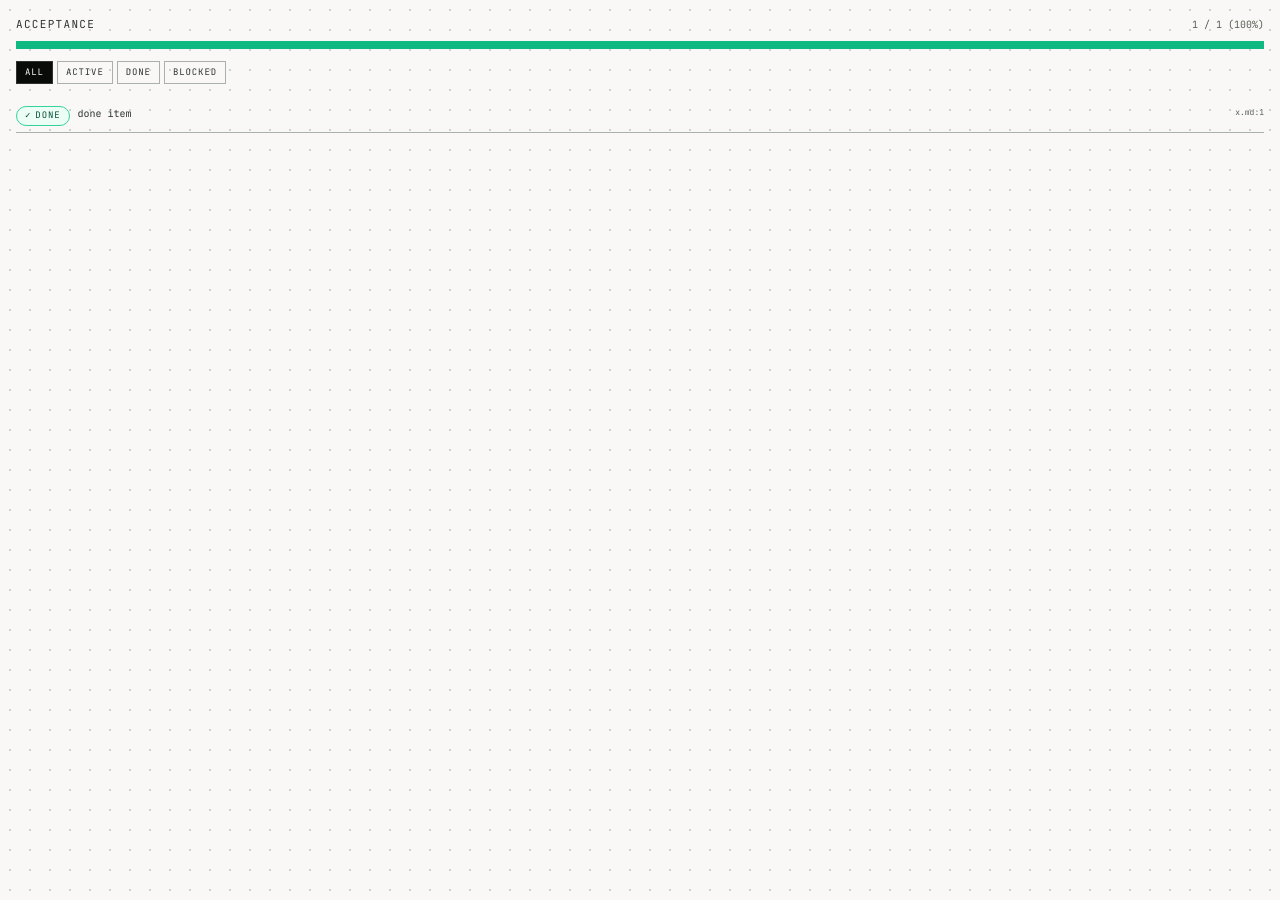
Test case: UI Enhancement Pack v0 — AcceptanceTab › filtering to a state with no matching items shows the empty-filter message
Click the button with test id "acceptance-filter-active": (85,72) [57,60,113,84]
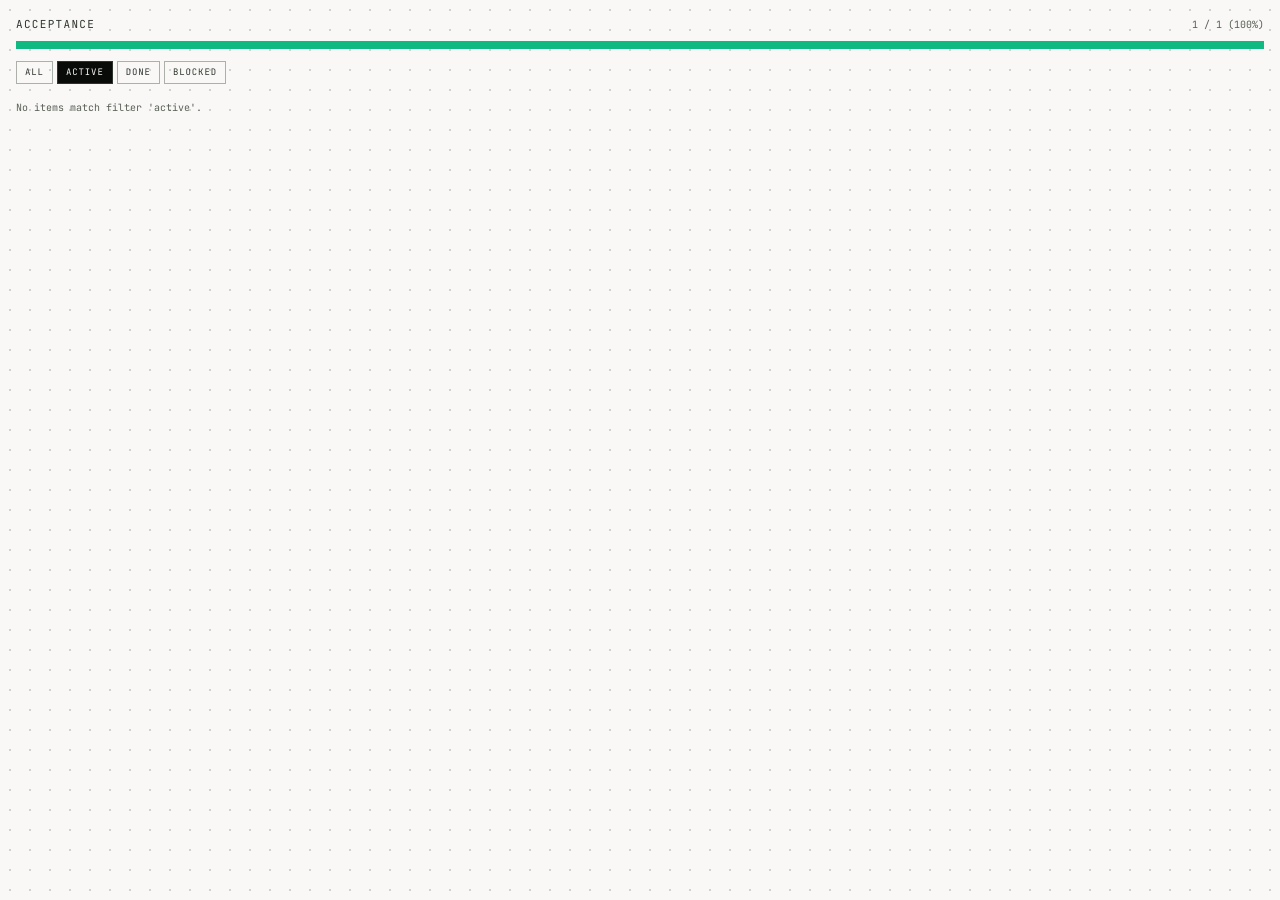
Expected: the text with test id "acceptance-filter-empty" shows "active", [154,101,190,114]
